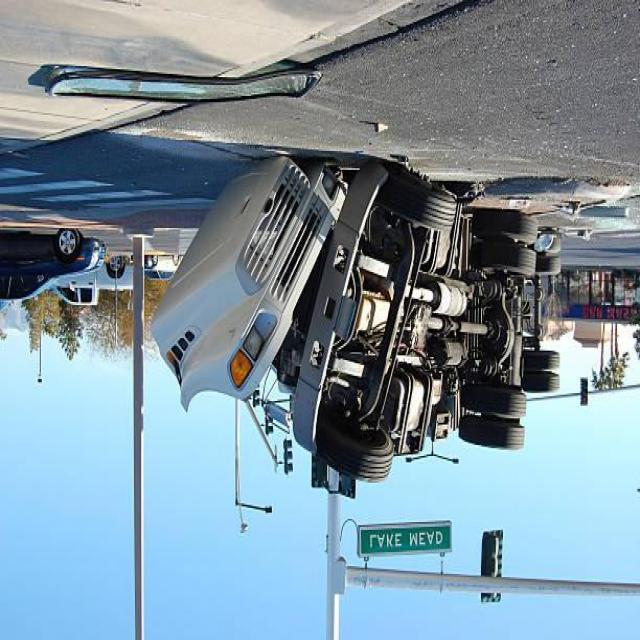severe: (144, 152, 572, 497)
